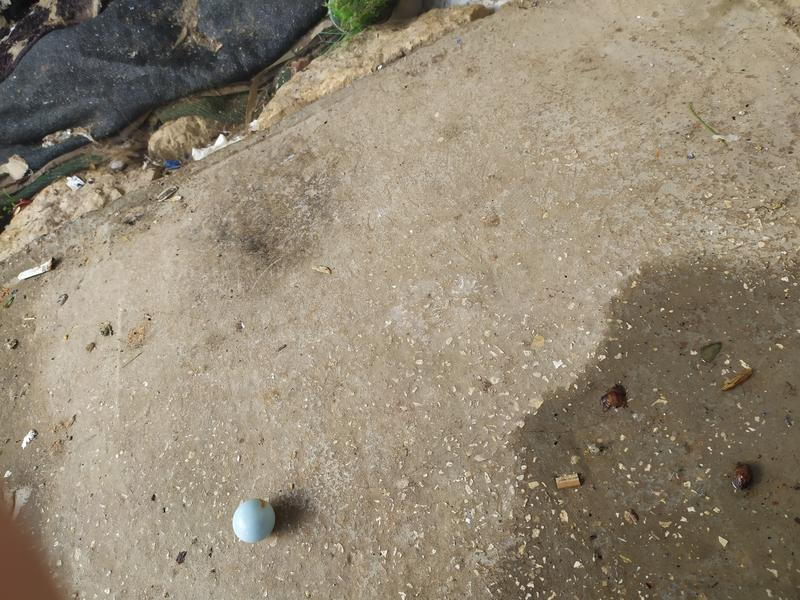Warning: (231, 496, 278, 545)
